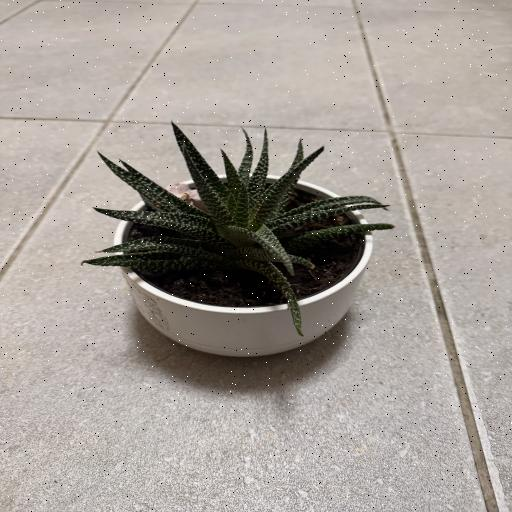Plant Pot: (111, 173, 375, 357)
